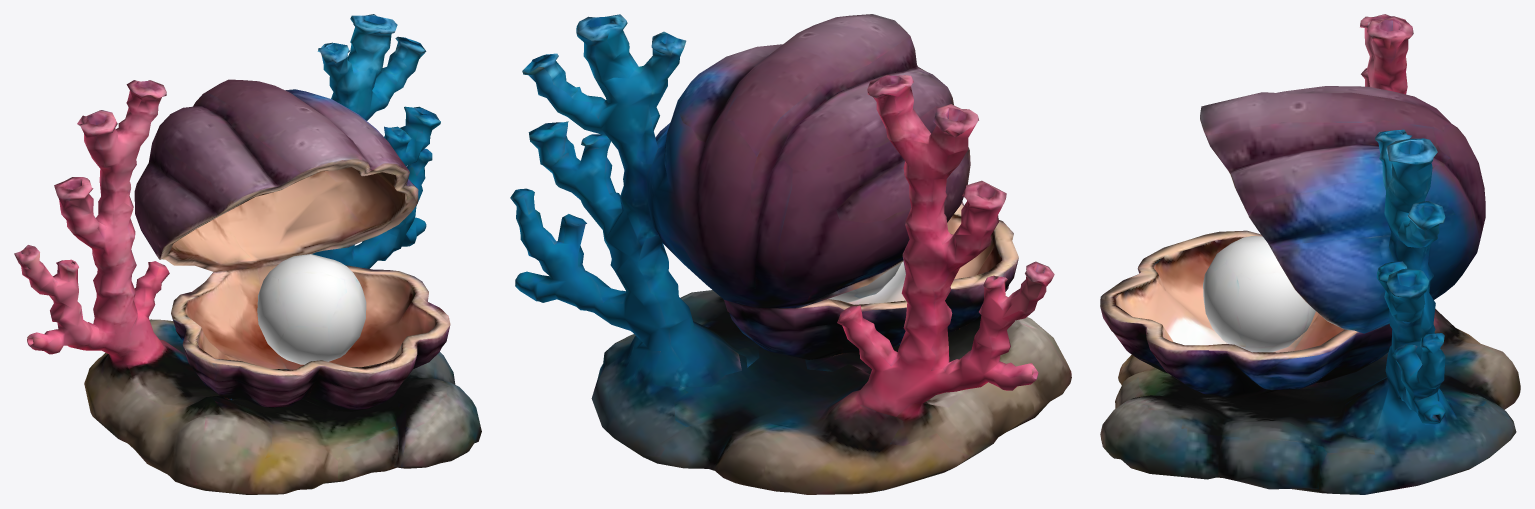
Rendered from tile_lagon.glb.
3 views of the same model, side by side, from view 1: azimuth 30°, elevation 25°; view 2: azimuth 150°, elevation 25°; view 3: azimuth 270°, elevation 25° (orthographic). The views are drawn at different scales.
Visible parts, largest first — view 1: node_0; view 2: node_0; view 3: node_0.
Boxes of the visible parts, x1=… form: node_0: x1=14, y1=14, x2=481, y2=494; node_0: x1=510, y1=14, x2=1071, y2=494; node_0: x1=1100, y1=14, x2=1520, y2=494.
Bounding box in the file's own units: 1.01 × 0.716 × 0.8049.
Materials: 1 (1 with a texture image).
